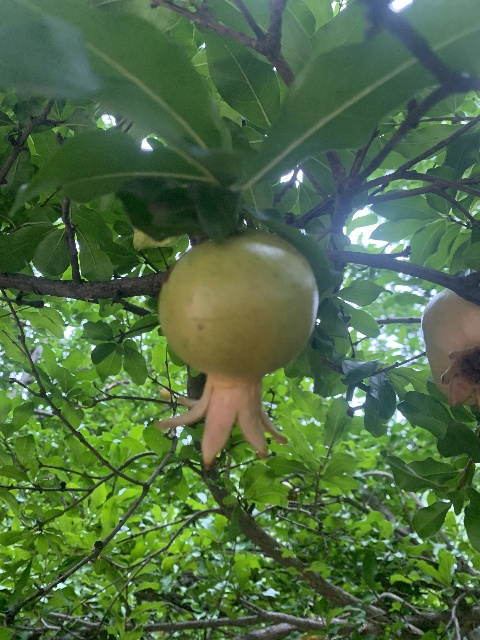mid-growth: (153, 231, 317, 468), (422, 289, 480, 419)
